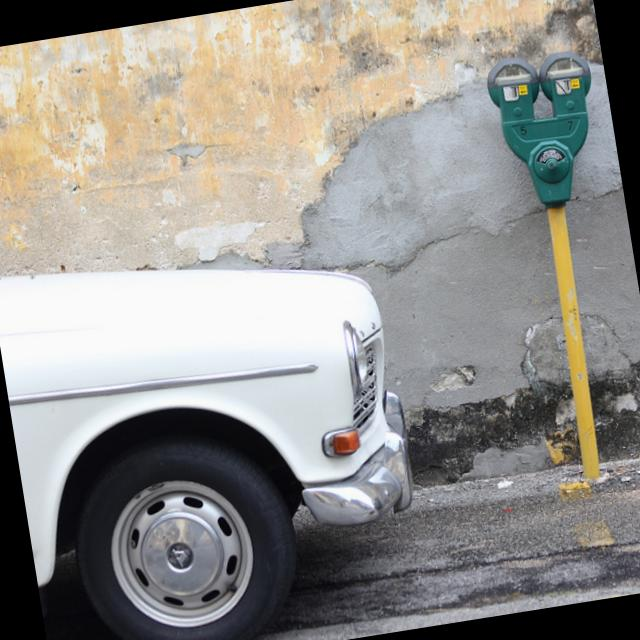Vehicle: (0, 217, 437, 640)
